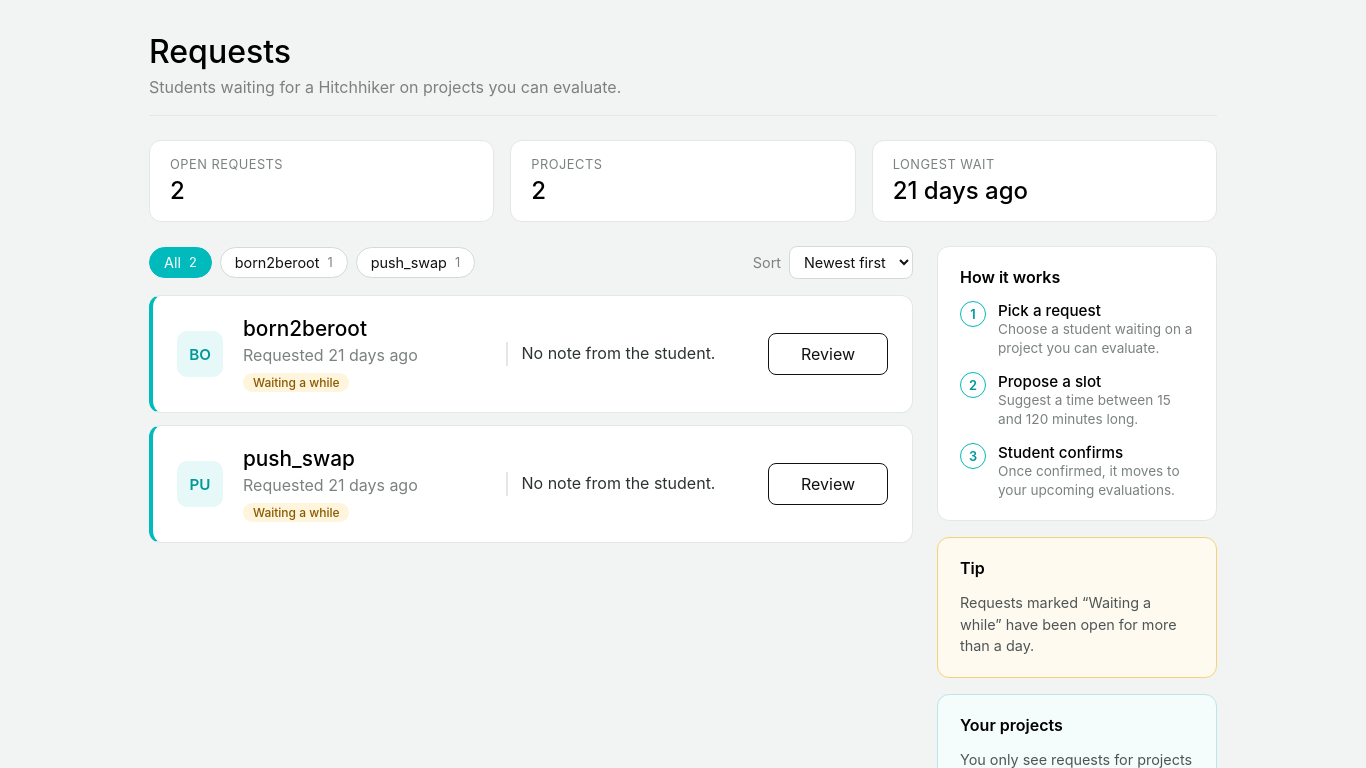
it: HitchhikerRequestsPage › filters the cards by project
The image size is (1366, 768).
Expected: the heading "born2beroot" is shown, top-left (243, 316), bottom-right (367, 341)
Click the button "push_swap 1" at (415, 262), box top-left (356, 247), bottom-right (475, 278)
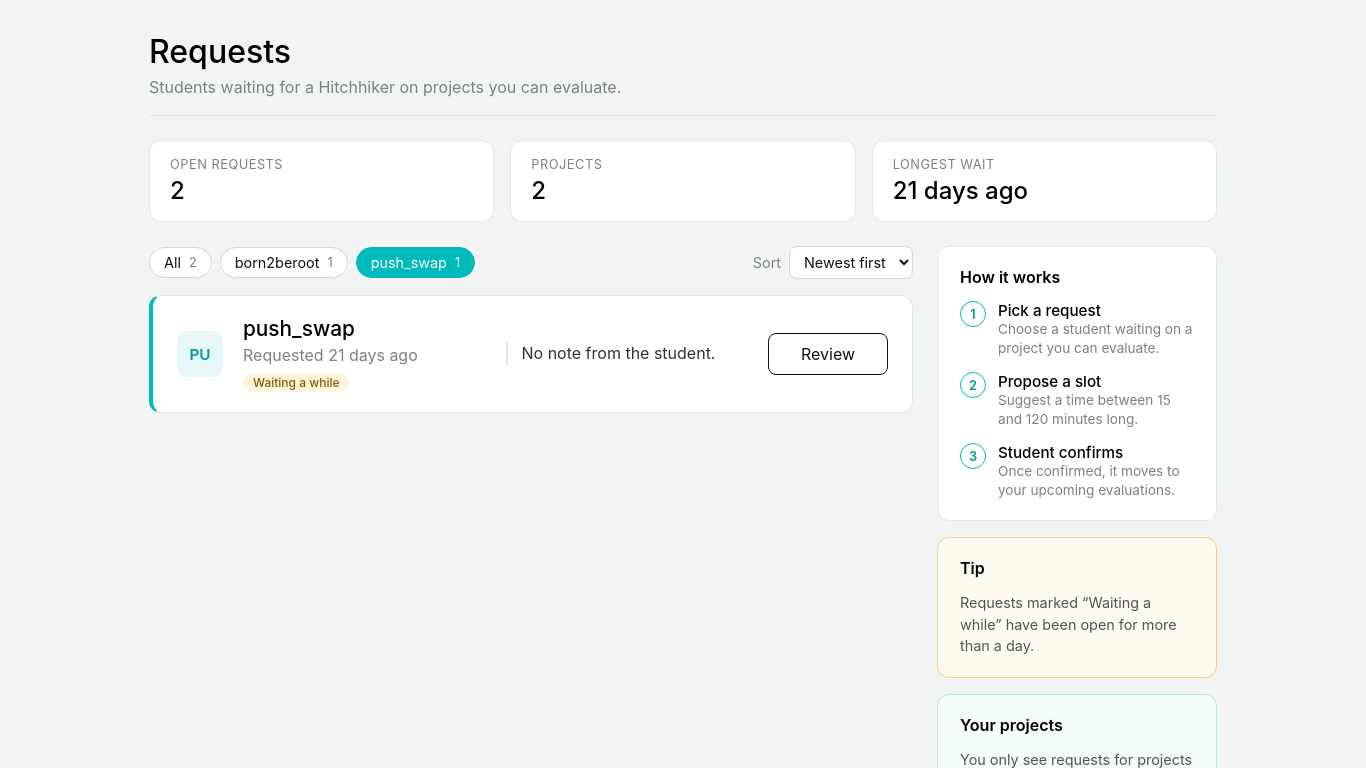
Expected: the heading "push_swap" is shown, top-left (243, 316), bottom-right (355, 341)
Click the button "All 2" at (180, 262), box top-left (149, 247), bottom-right (212, 278)
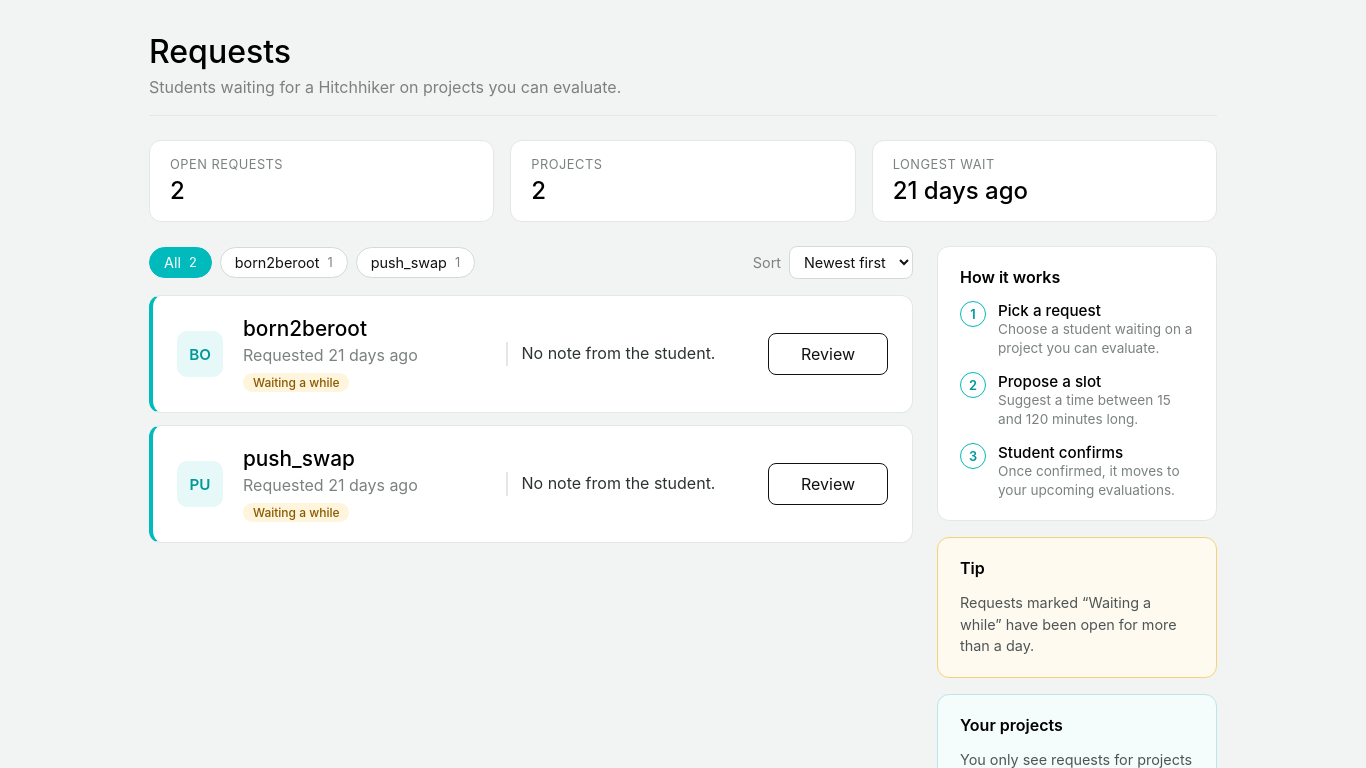
Expected: the heading "born2beroot" is shown, top-left (243, 316), bottom-right (367, 341)
